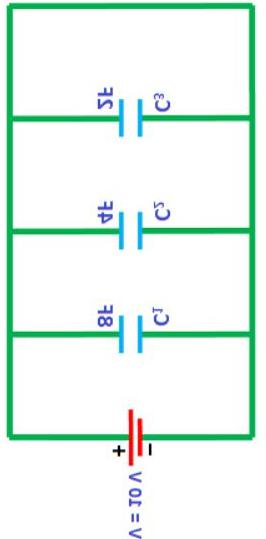Capacitor: (103, 84, 150, 153)
